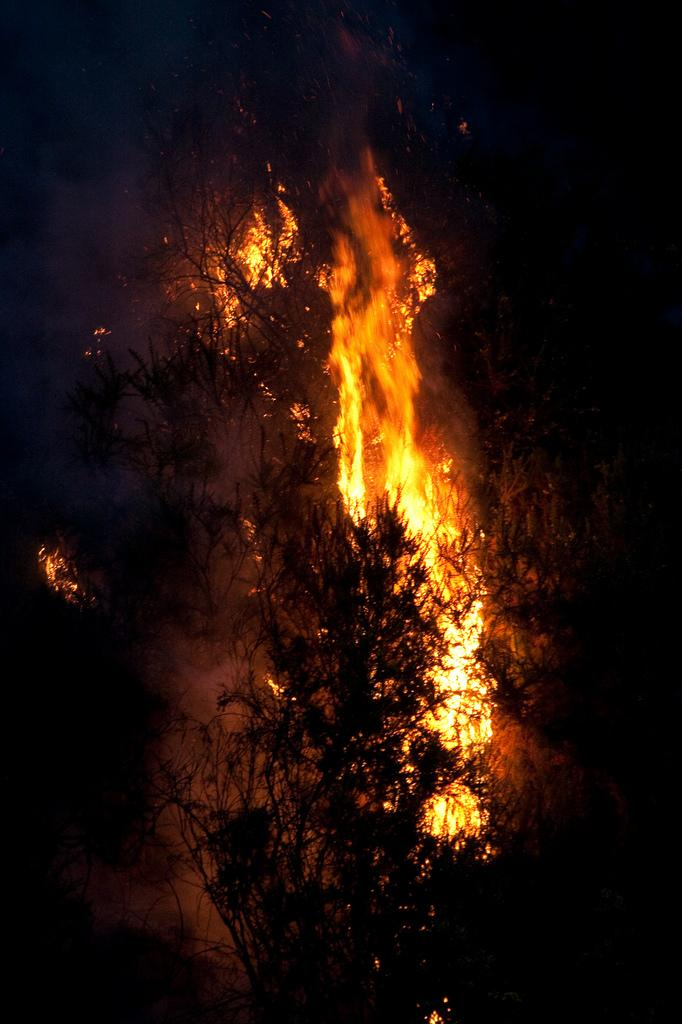fire: (335, 258, 412, 512), (432, 550, 492, 820)
